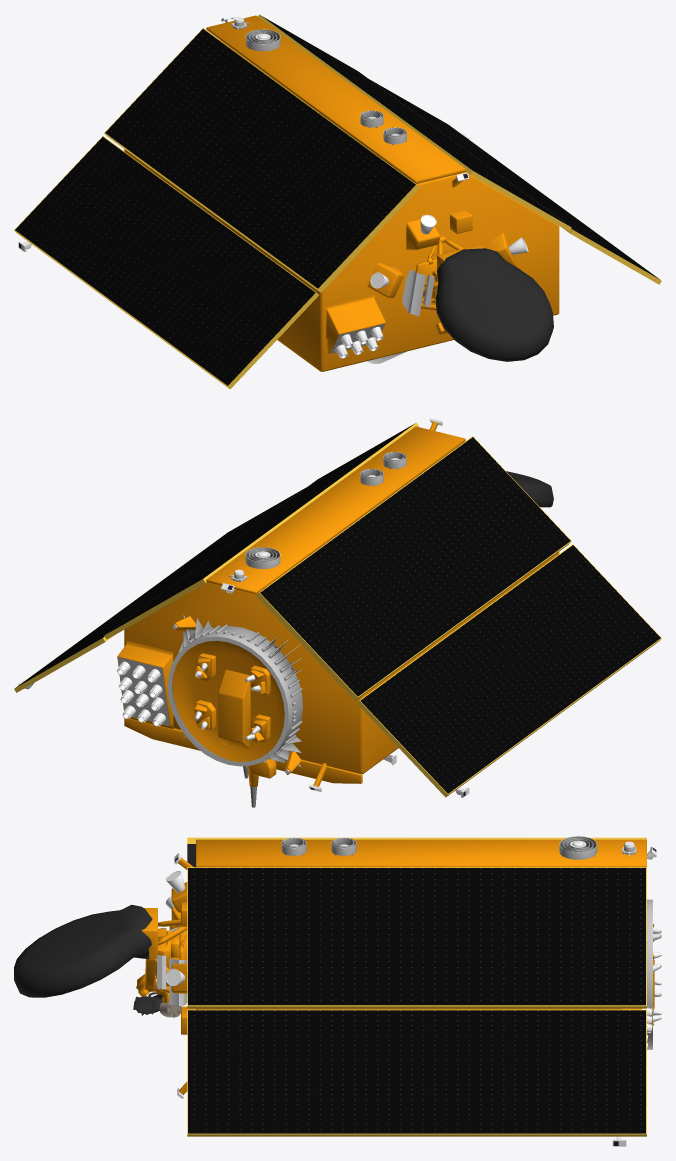
File: Sentinel.gltf
3 views of the same model, one above another, from view 1: azimuth 30°, elevation 25°; view 2: azimuth 150°, elevation 25°; view 3: azimuth 270°, elevation 25° (orthographic). The views are drawn at different scales.
Visible parts, largest first — view 1: node_array_-9958, node_BUS_-9952, node_AMR_-9956, node_GNSS_POD_RO_SPA_-9968, node_GNSS_-9966, node_starTrackers_-9978; view 2: node_array_-9958, node_BUS_-9952, node_MPPS_-9972, node_GNSS_-9966, node_GNSS_POD_RO_SPA_-9968, node_AMR_-9956; view 3: node_array_-9958, node_BUS_-9952, node_AMR_-9956, node_GNSS_POD_RO_SPA_-9968, node_MPPS_-9972, node_starTrackers_-9978.
Boxes of the visible parts, left/top/right/bottom form: node_array_-9958: left=14, top=14, right=661, bottom=389; node_BUS_-9952: left=124, top=15, right=559, bottom=371; node_AMR_-9956: left=402, top=248, right=553, bottom=361; node_GNSS_POD_RO_SPA_-9968: left=231, top=17, right=406, bottom=145; node_GNSS_-9966: left=330, top=323, right=384, bottom=358; node_starTrackers_-9978: left=370, top=214, right=528, bottom=288; node_array_-9958: left=14, top=422, right=661, bottom=797; node_BUS_-9952: left=117, top=421, right=559, bottom=787; node_MPPS_-9972: left=167, top=614, right=302, bottom=767; node_GNSS_-9966: left=117, top=657, right=169, bottom=726; node_GNSS_POD_RO_SPA_-9968: left=229, top=452, right=406, bottom=581; node_AMR_-9956: left=506, top=471, right=553, bottom=507; node_array_-9958: left=187, top=837, right=646, bottom=1136; node_BUS_-9952: left=136, top=839, right=654, bottom=1094; node_AMR_-9956: left=14, top=904, right=187, bottom=1017; node_GNSS_POD_RO_SPA_-9968: left=281, top=836, right=636, bottom=859; node_MPPS_-9972: left=647, top=899, right=661, bottom=1049; node_starTrackers_-9978: left=165, top=871, right=185, bottom=986.
Bounding box in the file's own units: 4.37 × 2.32 × 5.13.
Materials: 17 (4 with a texture image).
